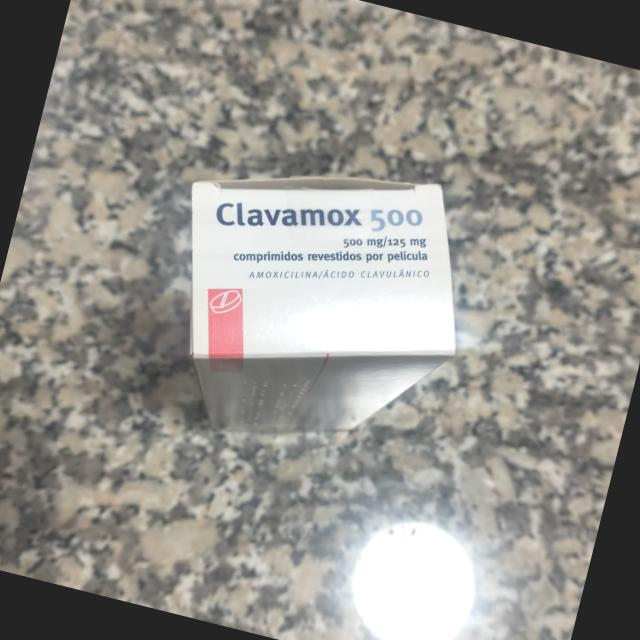box: (191, 181, 454, 429)
